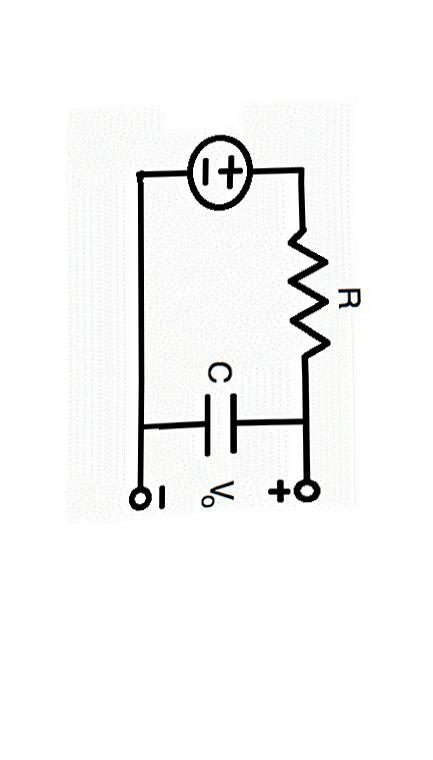Battery: (164, 117, 269, 222)
